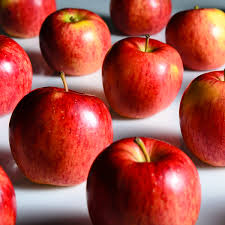apple: (10, 92, 116, 184), (90, 143, 205, 223), (103, 41, 180, 117), (38, 10, 115, 77), (176, 73, 225, 162), (170, 7, 225, 69), (2, 2, 58, 43)
